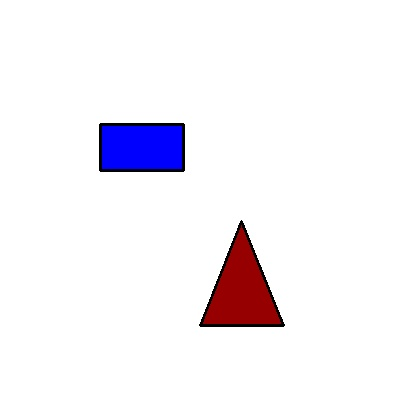rectangle: (100, 124, 183, 170)
triangle: (200, 221, 283, 325)
